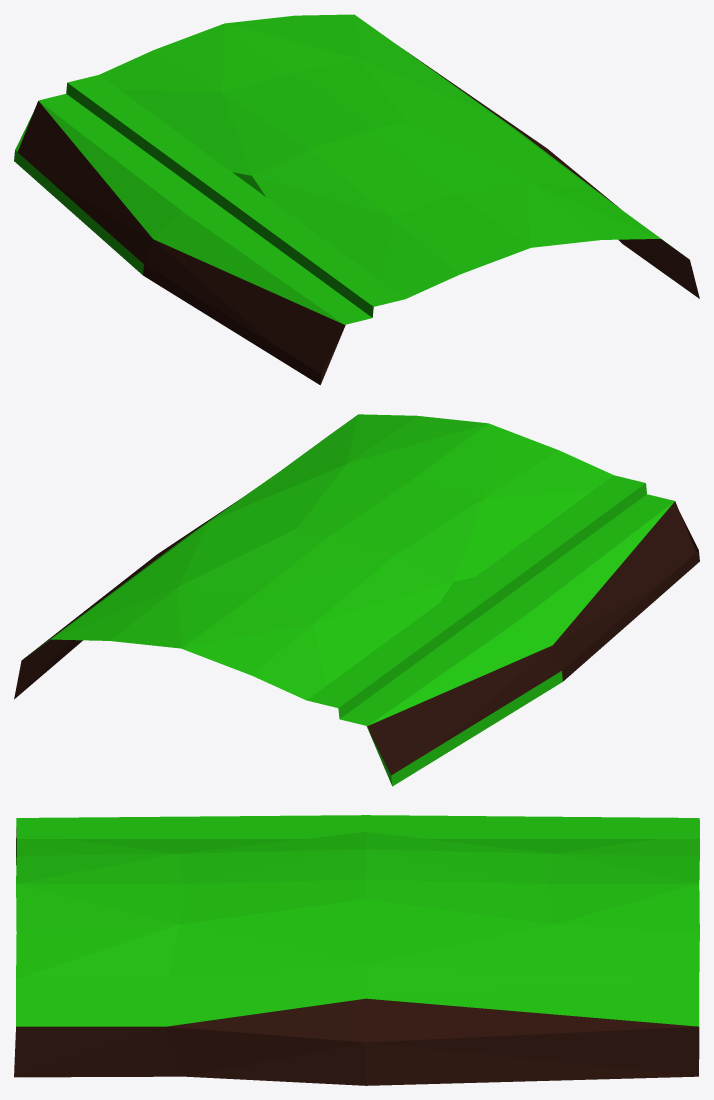
Rendered from Land4.fbx.
The picture shows the model from 3 angles, top to bottom: view 1: azimuth 30°, elevation 25°; view 2: azimuth 150°, elevation 25°; view 3: azimuth 270°, elevation 25°; orthographic projection. The views are drawn at different scales.
Parts seen in each view (by area): view 1: Land1; view 2: Land1; view 3: Land1.
Part boxes in pixels (<box>): Land1: <box>14,14,699,385</box>; Land1: <box>14,414,699,786</box>; Land1: <box>14,815,699,1085</box>.
Bounding box in the file's own units: 14002 × 3091 × 18003.
